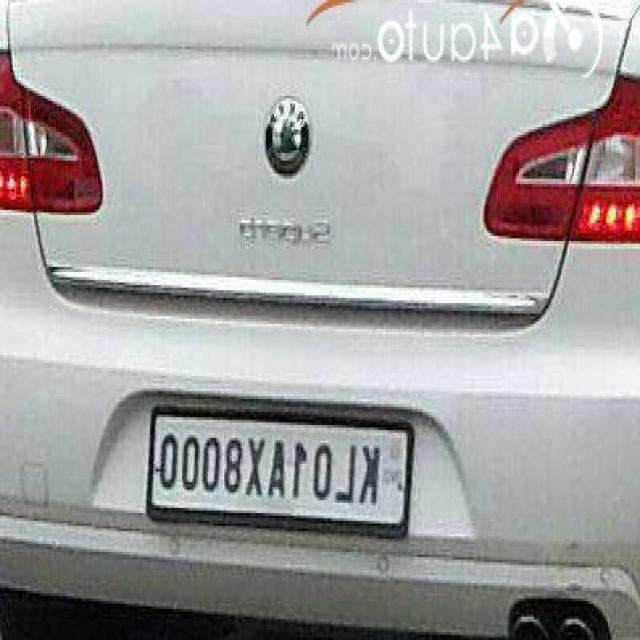number-plate: (107, 408, 428, 548)
